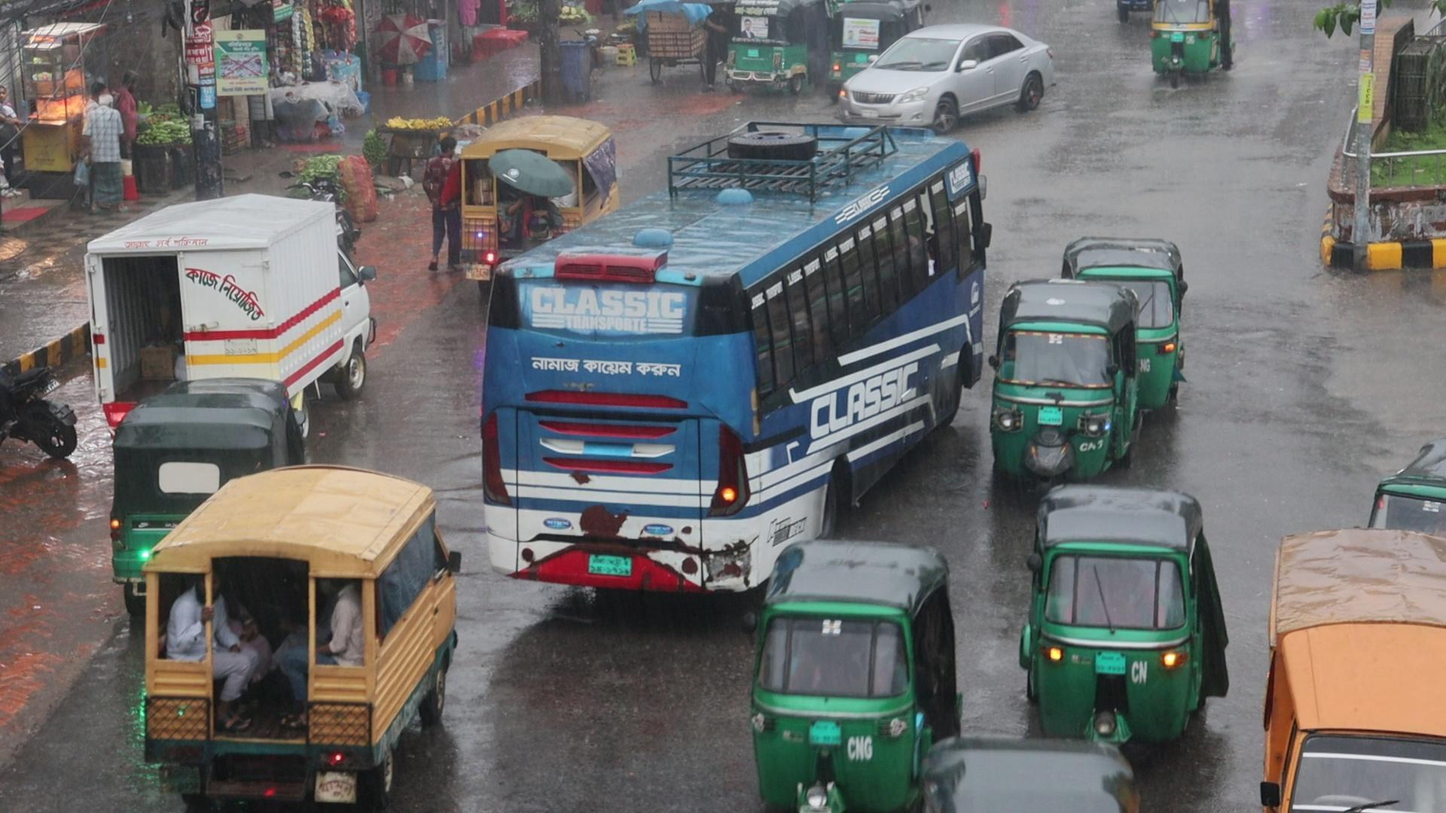Bus: (478, 118, 987, 586)
Car: (837, 21, 1054, 121)
Truck: (142, 462, 460, 790), (459, 114, 613, 249)
